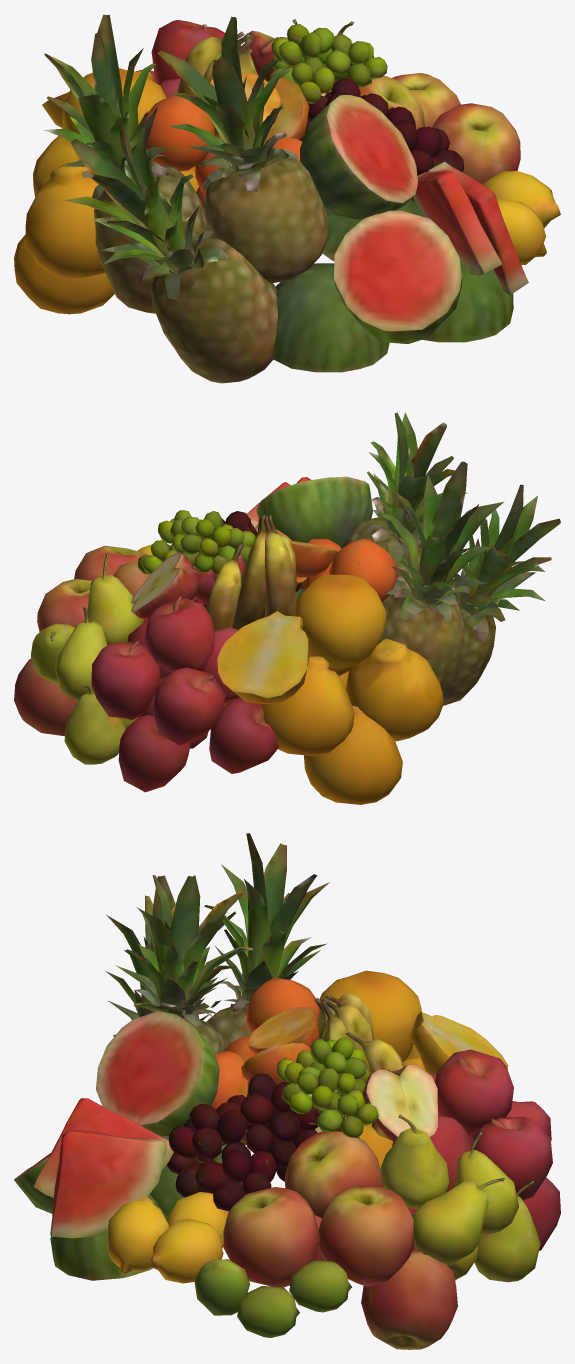
File: SM_PalManger_Food_9ee7f5.glb
3 renders of one model, top to bottom at view 1: azimuth 30°, elevation 25°; view 2: azimuth 150°, elevation 25°; view 3: azimuth 270°, elevation 25°, orthographic. The views are drawn at different scales.
Size of the model in its own units: 1.21 by 0.7926 by 1.15.
1 material, 1 textured.
